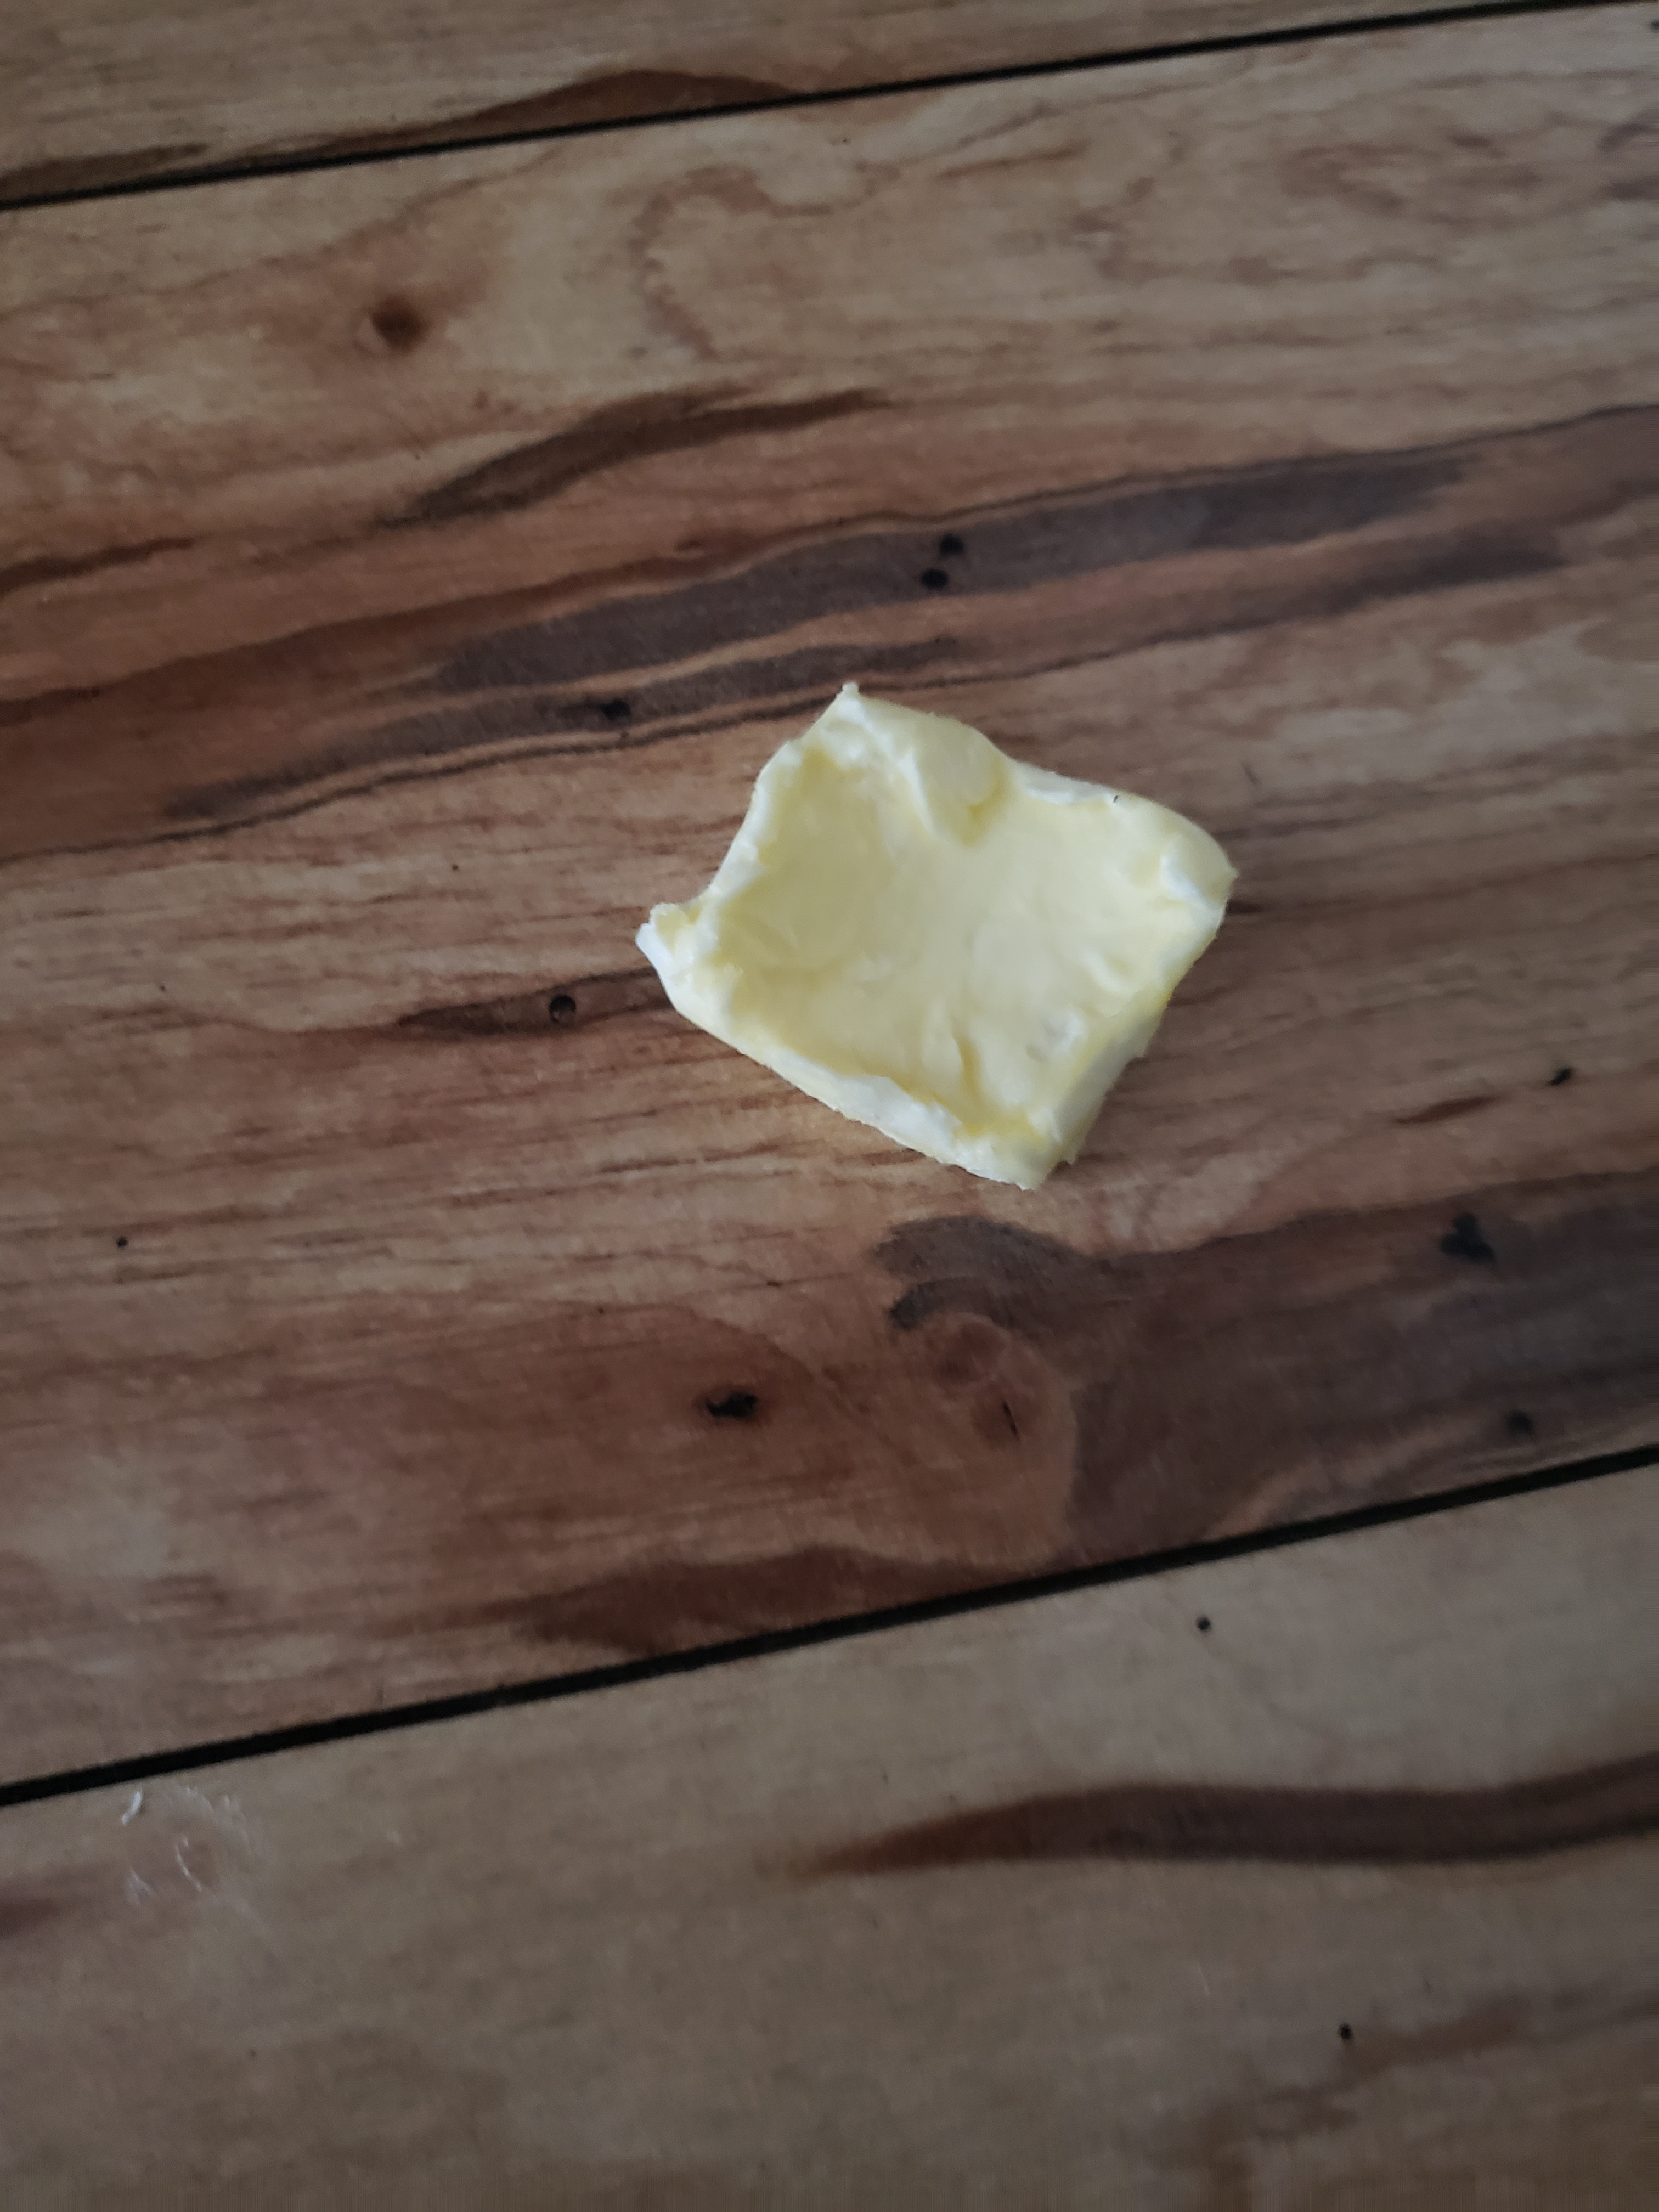Butter: (629, 683, 1236, 1181)
